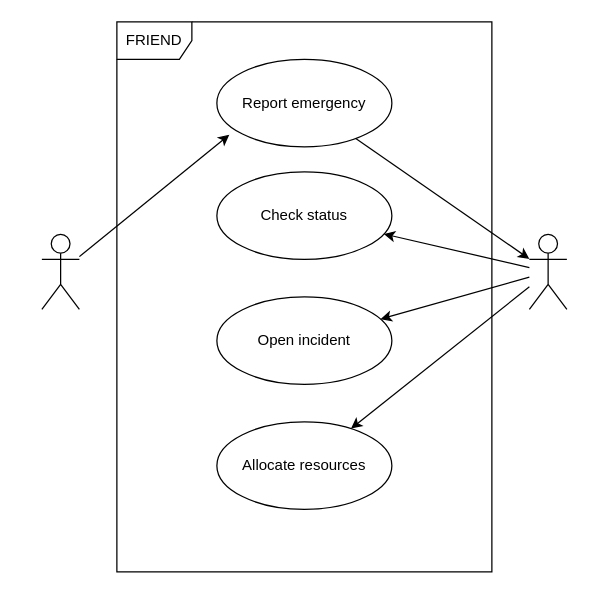
Image size: 605x594. Some labels were removed from this diagram. The shapes that lost their labels are listed below. From the top down, each one's box as (x1, y1, x2, y2) in pixels, then its label:
(41, 233, 79, 309): Field officer
(528, 233, 567, 309): Dispatcher
